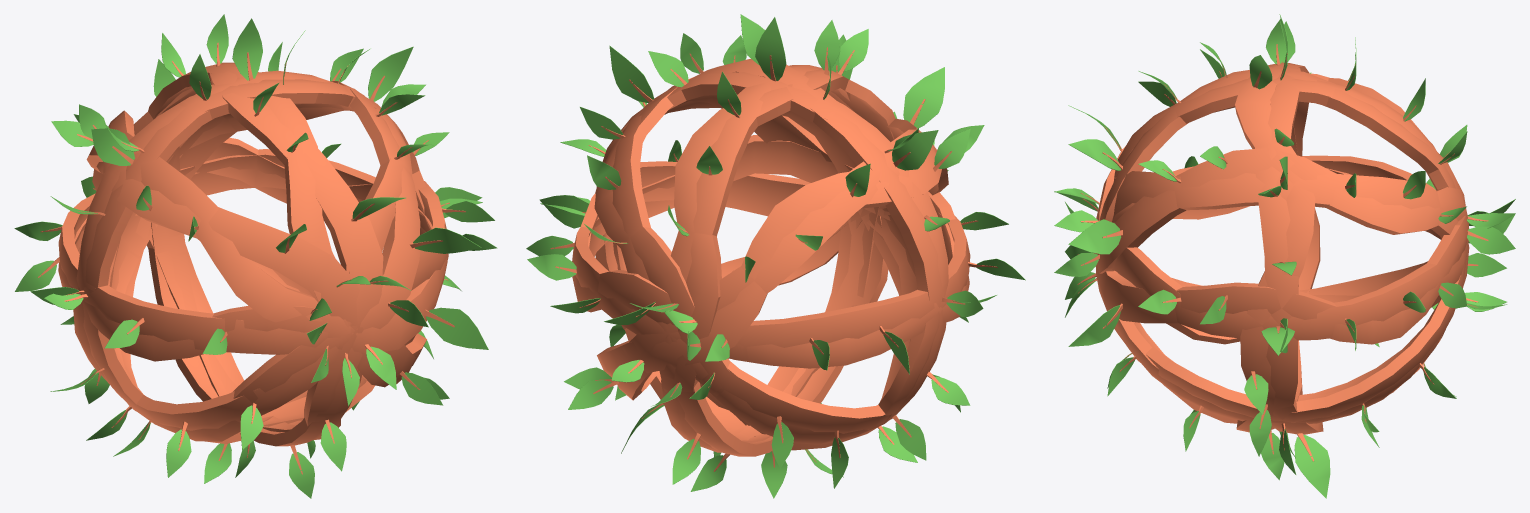
The model's file is WoodBlade.fbx.
The picture shows the model from 3 angles, left to right: view 1: azimuth 30°, elevation 25°; view 2: azimuth 150°, elevation 25°; view 3: azimuth 270°, elevation 25°; orthographic projection. The views are drawn at different scales.
Visible parts, largest first — view 1: WoodBlade.001, WoodBlade, WoodBlade.002, WoodBlade.003, WoodBlade.004; view 2: WoodBlade.001, WoodBlade, WoodBlade.002, WoodBlade.003, WoodBlade.004; view 3: WoodBlade, WoodBlade.002, WoodBlade.004, WoodBlade.001, WoodBlade.003.
Part boxes in pixels (x1,y1,x2,y2): WoodBlade.001: (133, 14, 405, 498); WoodBlade: (14, 137, 497, 361); WoodBlade.002: (60, 42, 481, 477); WoodBlade.003: (51, 104, 449, 405); WoodBlade.004: (44, 30, 482, 483); WoodBlade.001: (651, 17, 897, 498); WoodBlade: (526, 135, 1025, 374); WoodBlade.002: (580, 33, 968, 488); WoodBlade.003: (564, 67, 984, 409); WoodBlade.004: (540, 14, 996, 477); WoodBlade: (1054, 155, 1515, 353); WoodBlade.002: (1054, 146, 1515, 346); WoodBlade.004: (1235, 18, 1330, 498); WoodBlade.001: (1054, 20, 1515, 456); WoodBlade.003: (1054, 14, 1514, 474).
Bounding box in the file's own units: 1546 × 1546 × 1464.
